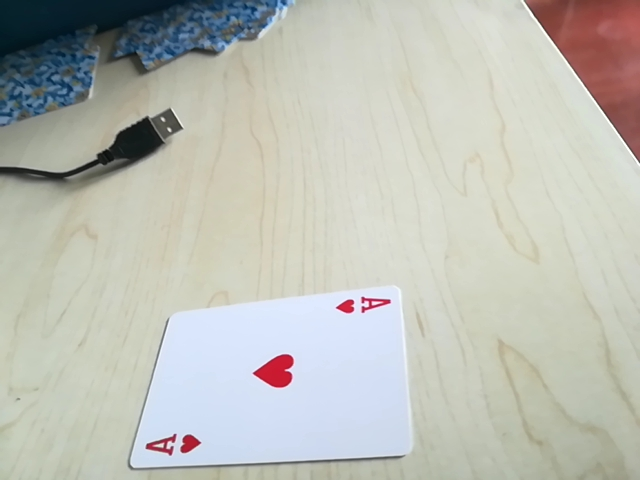hx a: (136, 426, 207, 460), (335, 290, 395, 324)
